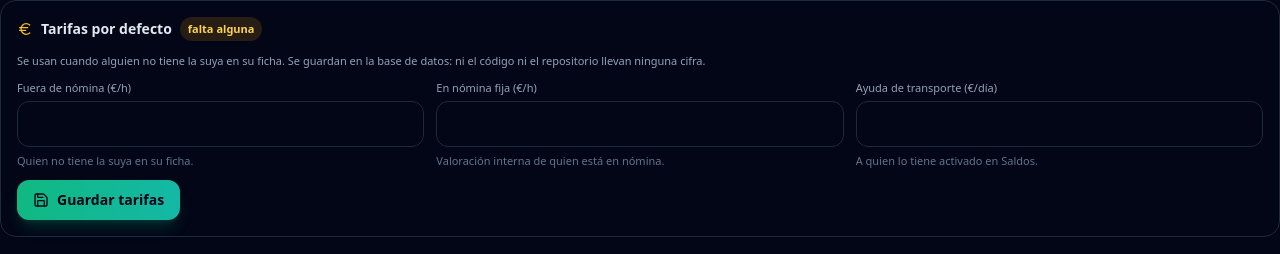
Test: TarifasPorDefecto › un valor no válido no se guarda y dice cuál es
The image size is (1280, 254).
Type "500" into the number field labelled "En nómina fija (€/h)" at (640, 124), box [436,101,844,147]
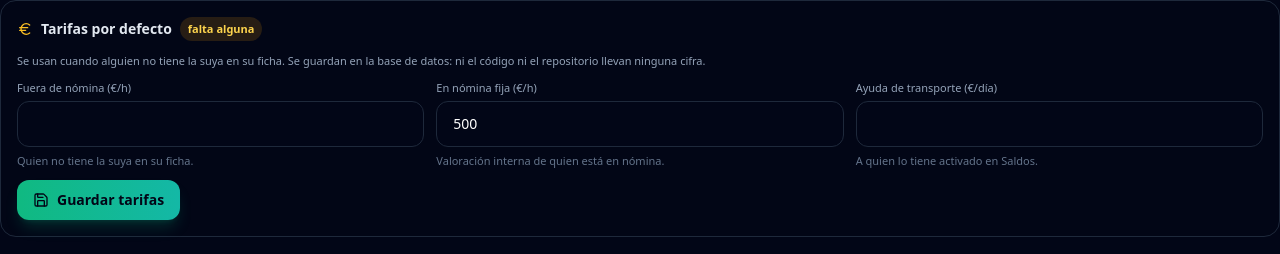
Click the button "Guardar tarifas" at (99, 200), box [17,180,180,220]
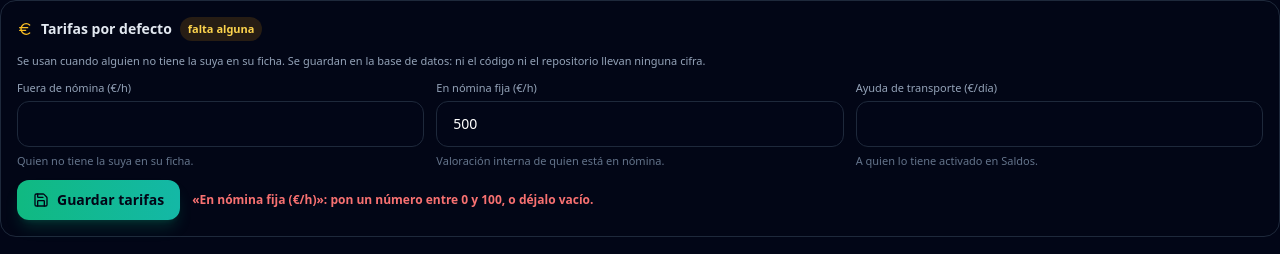
Now the message shows "En nómina fija", box [192,191,594,208]
